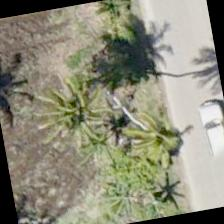Kelapa_Sawit: (110, 91, 214, 195), (24, 66, 128, 170)
